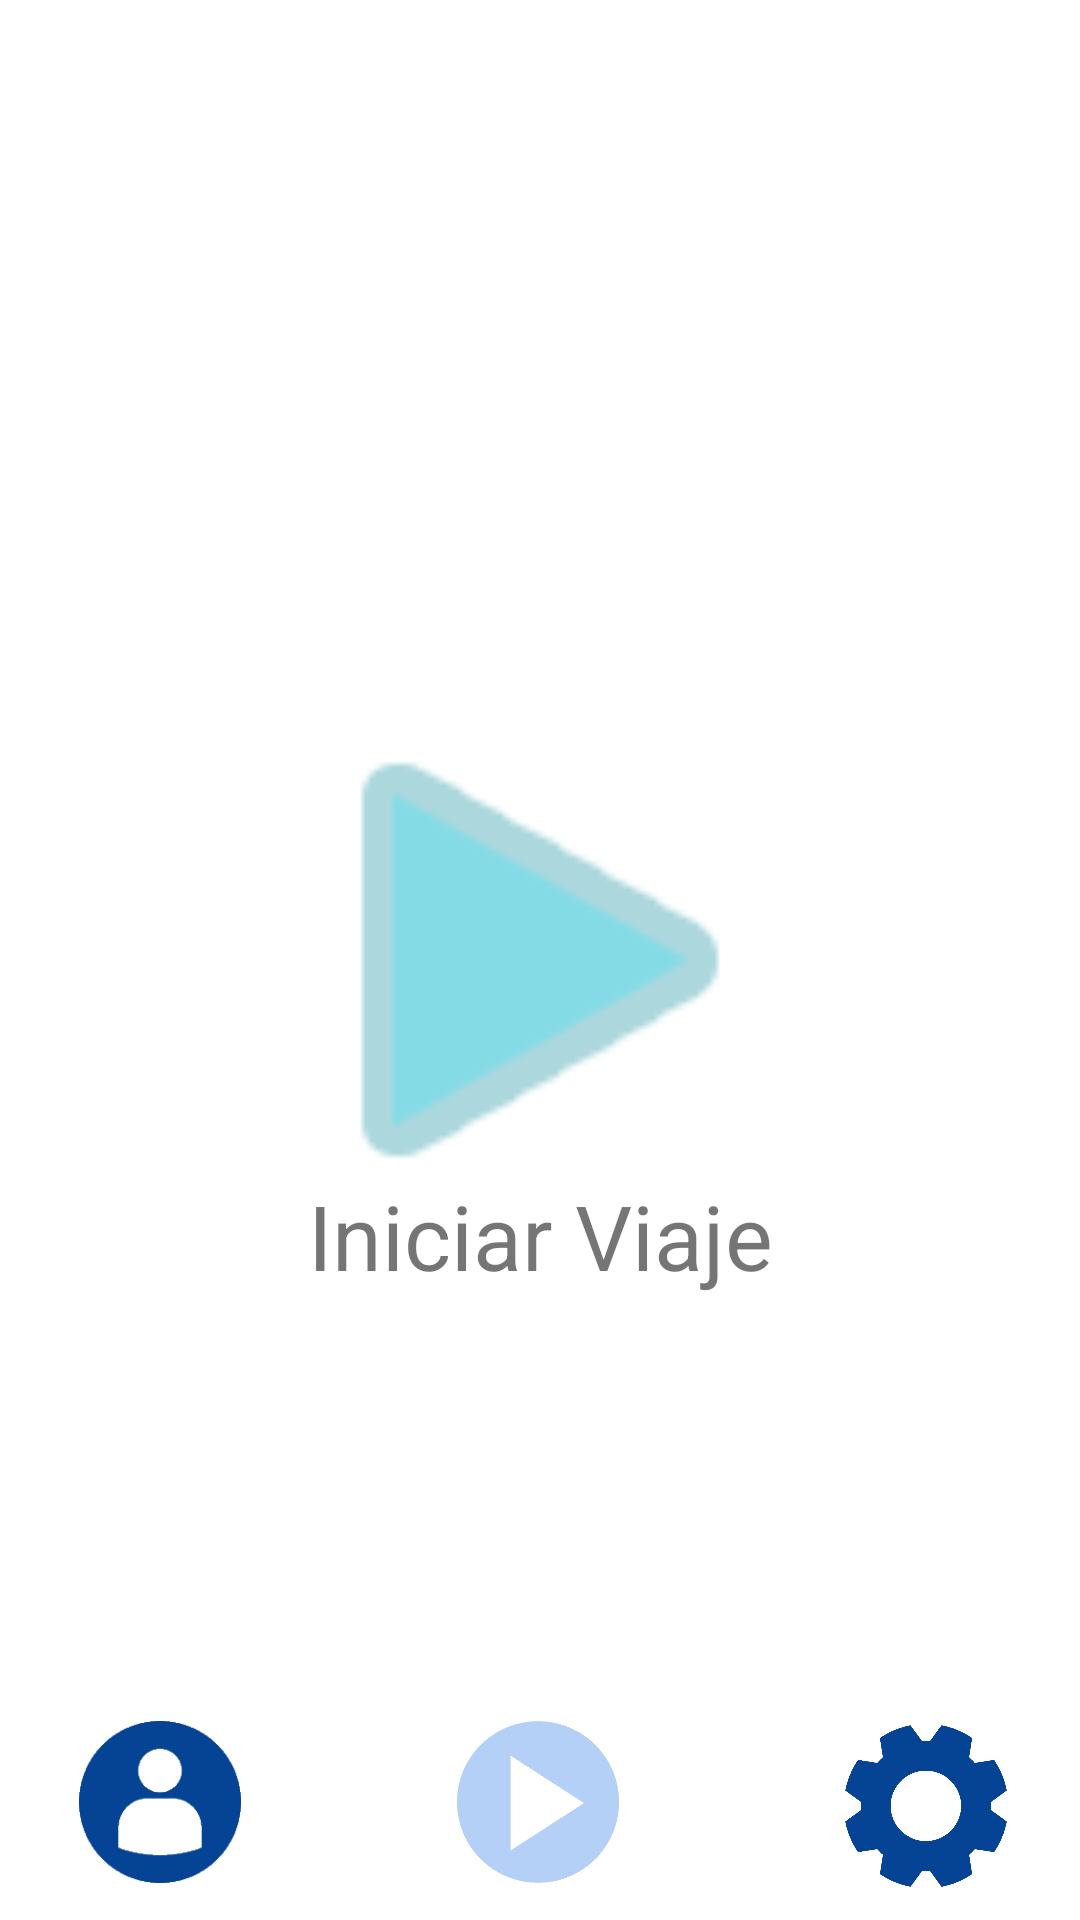

Locate icon controls on the screen. Image size 1080 x 1920, boxes as (x1, y1, x2, y2).
profile: (79, 1721, 241, 1883)
settings: (845, 1725, 1007, 1887)
